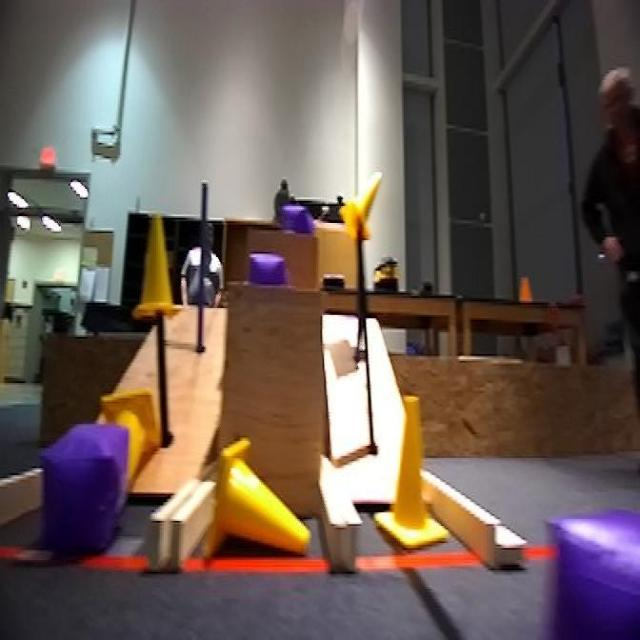frc_cone: (214, 434, 329, 558), (376, 395, 450, 546), (144, 216, 198, 334), (105, 388, 156, 506), (349, 150, 396, 243)
frc_cube: (547, 514, 640, 640), (35, 421, 120, 558), (272, 196, 308, 248), (249, 248, 281, 288)
